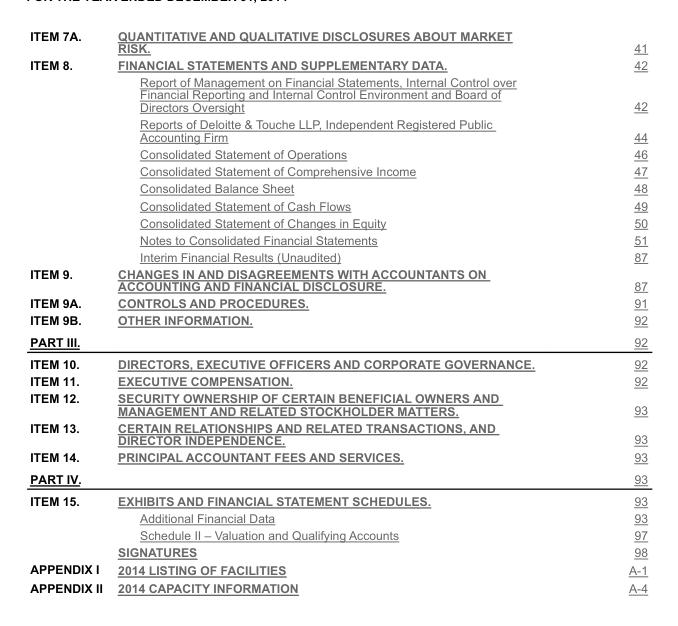table: (29, 28, 646, 594)
table column: (109, 28, 581, 594), (29, 28, 109, 594), (581, 28, 646, 594)
table column header: (29, 28, 646, 56)
table row: (29, 73, 646, 115), (29, 115, 646, 145), (29, 418, 646, 448), (29, 265, 646, 294), (29, 389, 646, 418), (29, 28, 646, 56), (29, 331, 646, 353), (29, 467, 646, 489), (29, 311, 646, 331), (29, 489, 646, 509), (29, 353, 646, 372), (29, 448, 646, 467), (29, 230, 646, 248), (29, 560, 646, 578), (29, 56, 646, 73), (29, 145, 646, 162), (29, 162, 646, 179), (29, 179, 646, 196), (29, 196, 646, 213), (29, 213, 646, 230), (29, 248, 646, 265), (29, 294, 646, 311), (29, 372, 646, 389), (29, 509, 646, 526), (29, 526, 646, 543), (29, 543, 646, 560), (29, 578, 646, 594)
table spanning cell: (29, 56, 109, 265), (29, 489, 109, 560)
